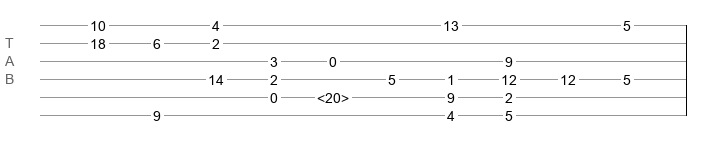0: (270, 90, 278, 100), (329, 54, 337, 64)
1: (447, 72, 455, 82)
10: (90, 18, 106, 28)
12: (501, 72, 517, 82), (560, 72, 576, 82)
13: (443, 18, 459, 28)
14: (208, 72, 224, 82)
18: (90, 36, 106, 46)
2: (212, 36, 220, 46), (270, 72, 278, 82), (505, 90, 513, 100)
3: (270, 54, 278, 64)
4: (212, 18, 220, 28), (447, 108, 455, 118)
5: (388, 72, 396, 82), (505, 108, 513, 118), (623, 72, 631, 82), (623, 18, 631, 28)
6: (153, 36, 161, 46)
9: (153, 108, 161, 118), (447, 90, 455, 100), (505, 54, 513, 64)
harmonic: (317, 90, 349, 100)
